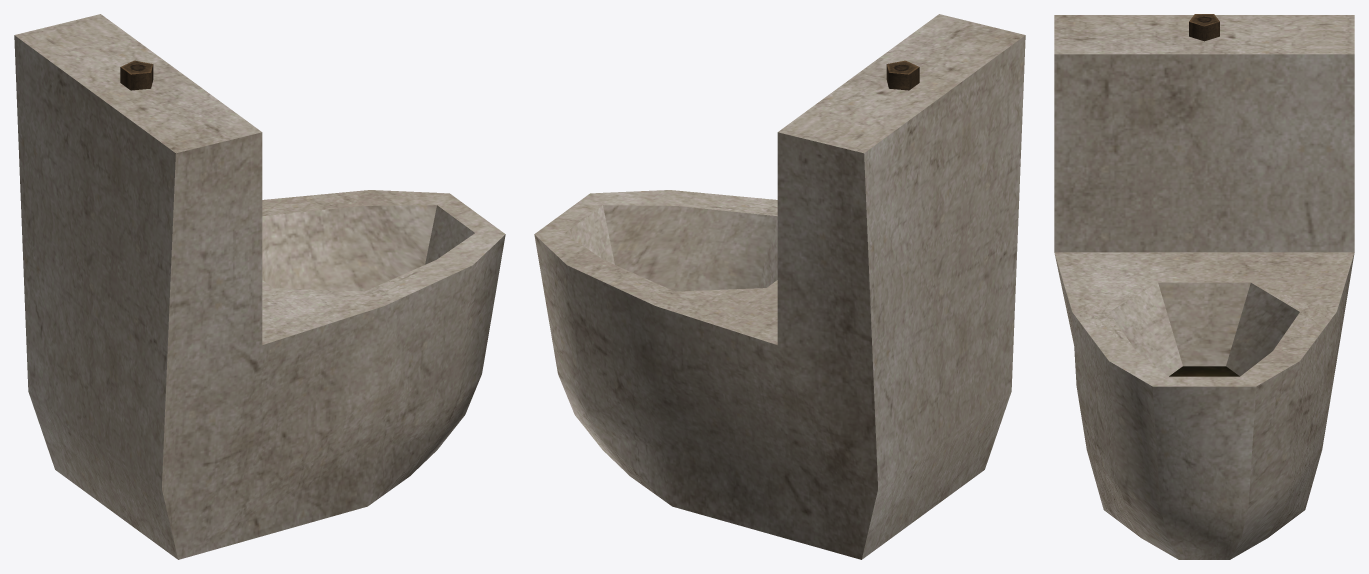
File: toilet.fbx
The picture shows the model from 3 angles, left to right: view 1: azimuth 30°, elevation 25°; view 2: azimuth 150°, elevation 25°; view 3: azimuth 270°, elevation 25°; orthographic projection. The views are drawn at different scales.
Parts seen in each view (by area): view 1: toilet.001; view 2: toilet.001; view 3: toilet.001.
Part boxes in pixels (<box>): toilet.001: <box>14,14,505,559</box>; toilet.001: <box>534,14,1025,559</box>; toilet.001: <box>1054,14,1354,559</box>.
Size of the model in its own units: 0.8338 by 0.92 by 0.6097.
2 materials, 2 textured.
